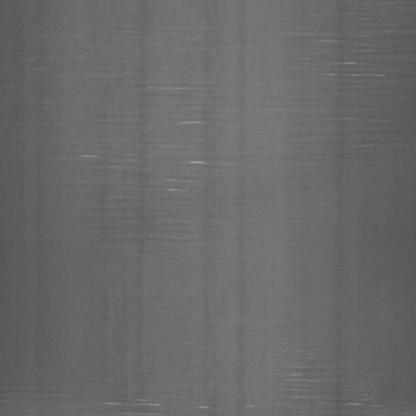waist_folding: (36, 23, 401, 306)
